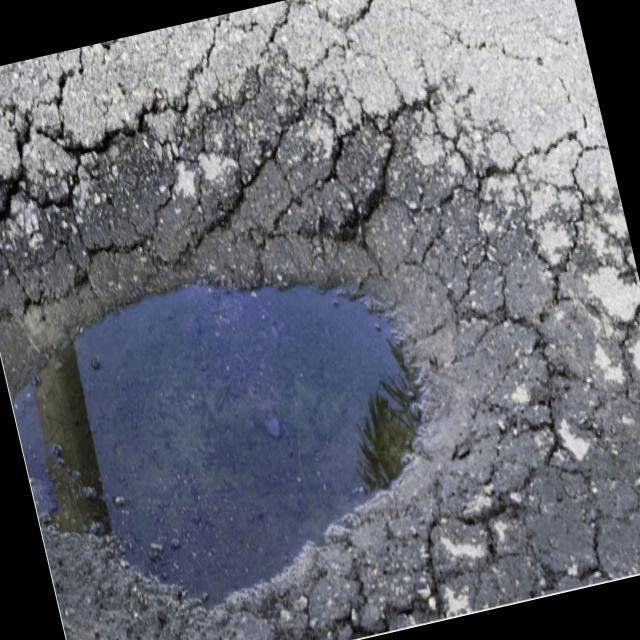Potholes: (0, 198, 545, 640)
